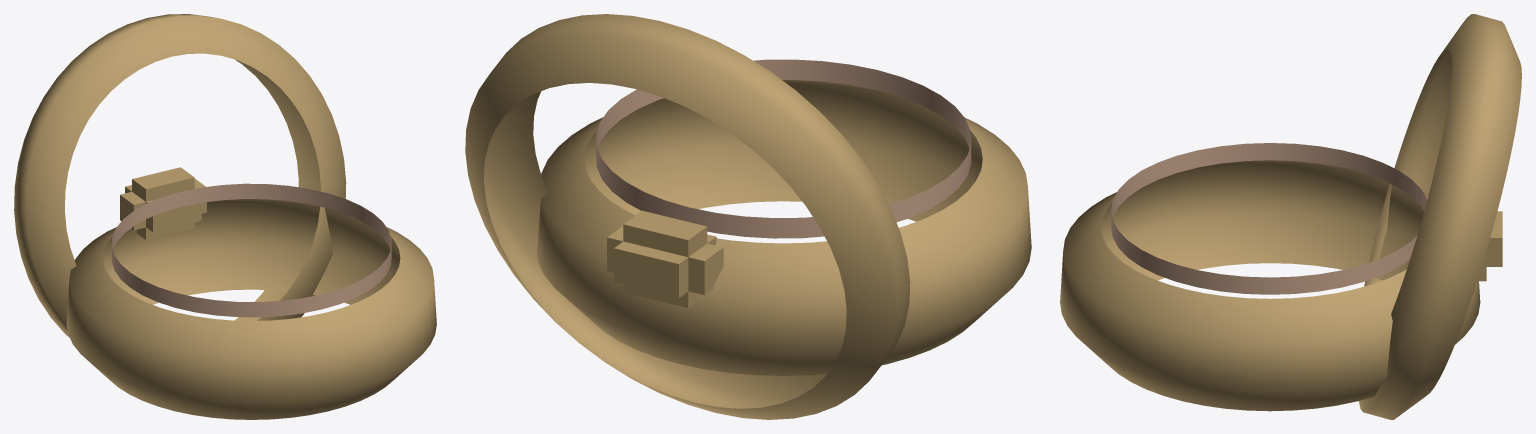
File: sku_v25_compact.glb
The picture shows the model from 3 angles, left to right: view 1: azimuth 30°, elevation 25°; view 2: azimuth 150°, elevation 25°; view 3: azimuth 270°, elevation 25°; orthographic projection. The views are drawn at different scales.
Visible parts, largest first — view 1: sku_v25_compact_Satin_champagne, sku_v25_compact_V25_powder; view 2: sku_v25_compact_Satin_champagne, sku_v25_compact_V25_powder; view 3: sku_v25_compact_Satin_champagne, sku_v25_compact_V25_powder.
Part boxes in pixels (x1,y1,x2,y2): sku_v25_compact_Satin_champagne: (14,14,436,419); sku_v25_compact_V25_powder: (111,183,391,317); sku_v25_compact_Satin_champagne: (465,14,1031,419); sku_v25_compact_V25_powder: (596,59,971,238); sku_v25_compact_Satin_champagne: (1060,14,1521,419); sku_v25_compact_V25_powder: (1111,143,1427,294).
Size of the model in its own units: 0.132 by 0.127 by 0.1451.
